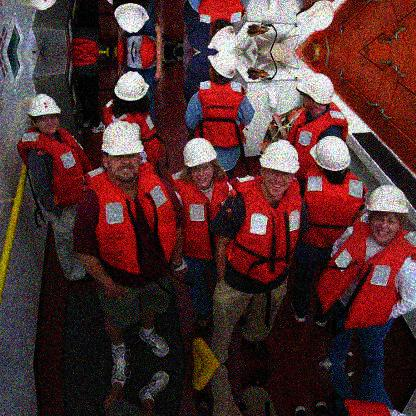helmet: (100, 121, 145, 185), (258, 140, 301, 201), (367, 186, 409, 246), (309, 135, 352, 184), (184, 137, 217, 191), (296, 72, 333, 116), (114, 70, 151, 112), (28, 93, 63, 136), (206, 19, 238, 51), (207, 52, 237, 84)
